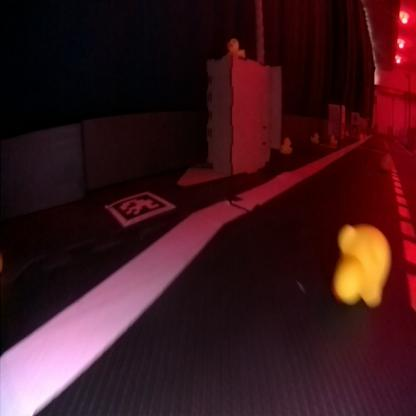Duckie: (337, 224, 392, 304), (229, 37, 245, 57)
QR code: (107, 192, 176, 224)
